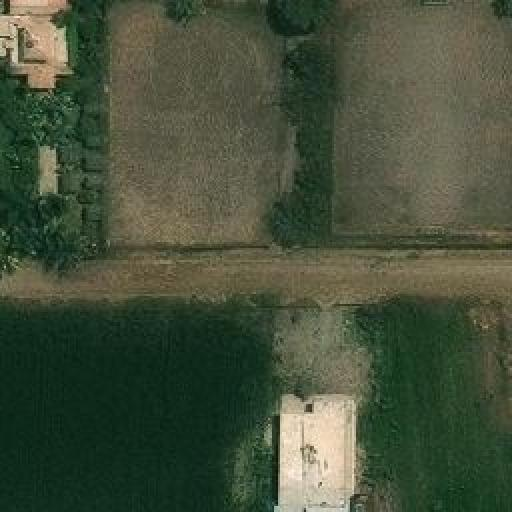manzanas: (269, 391, 365, 510), (1, 3, 72, 99)
